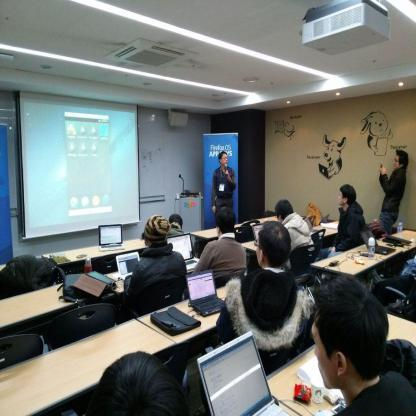board: (197, 330, 292, 416), (186, 268, 223, 318), (166, 233, 199, 272), (359, 228, 396, 256), (115, 251, 140, 282), (99, 223, 125, 251), (319, 163, 333, 179), (252, 223, 263, 243), (397, 219, 403, 240)
